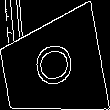O_W: (28, 41, 78, 93)
